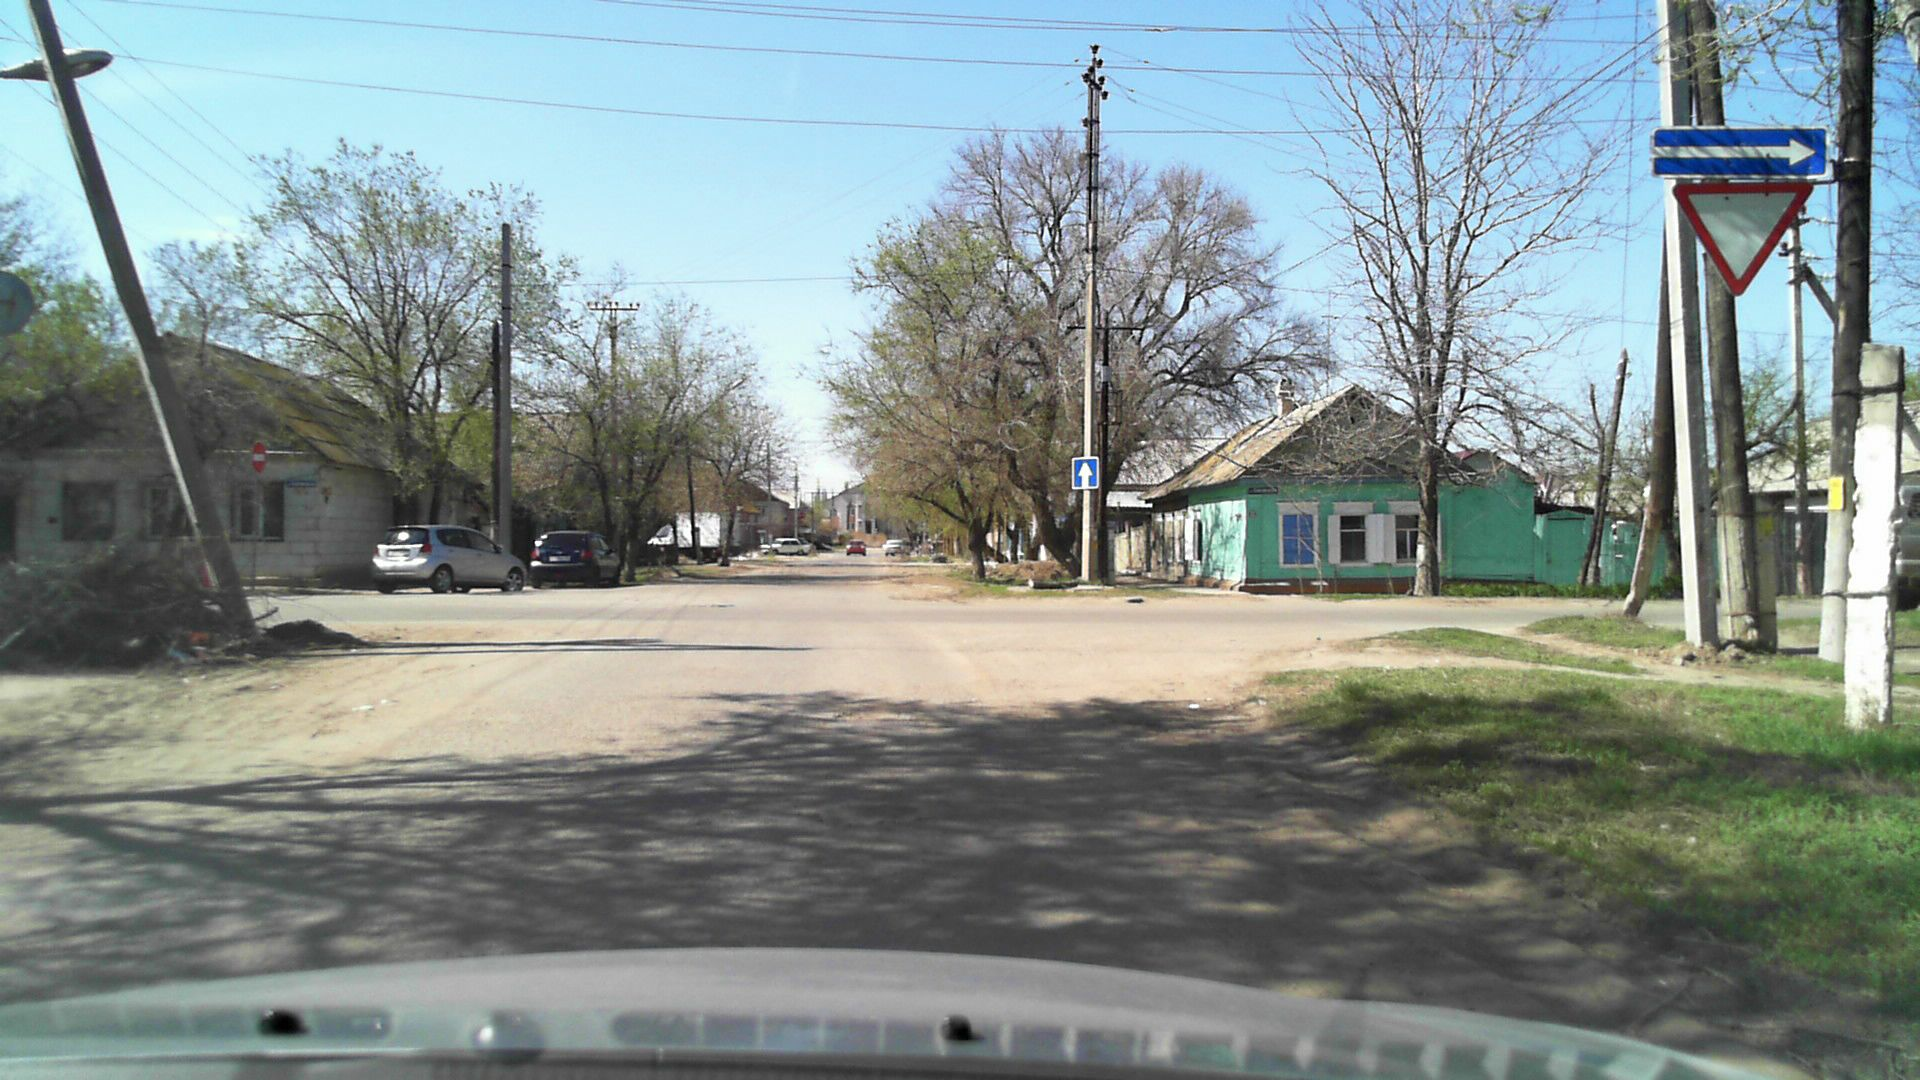One-Way Traffic: (1651, 127, 1830, 178)
